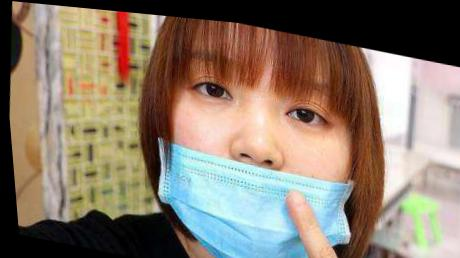WRONG: (146, 12, 374, 258)
